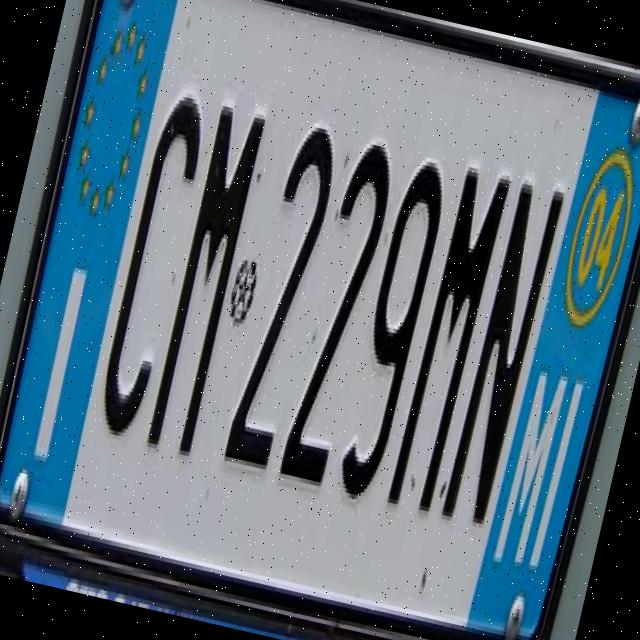EU: (0, 0, 640, 640)
Italie: (0, 0, 188, 519)
